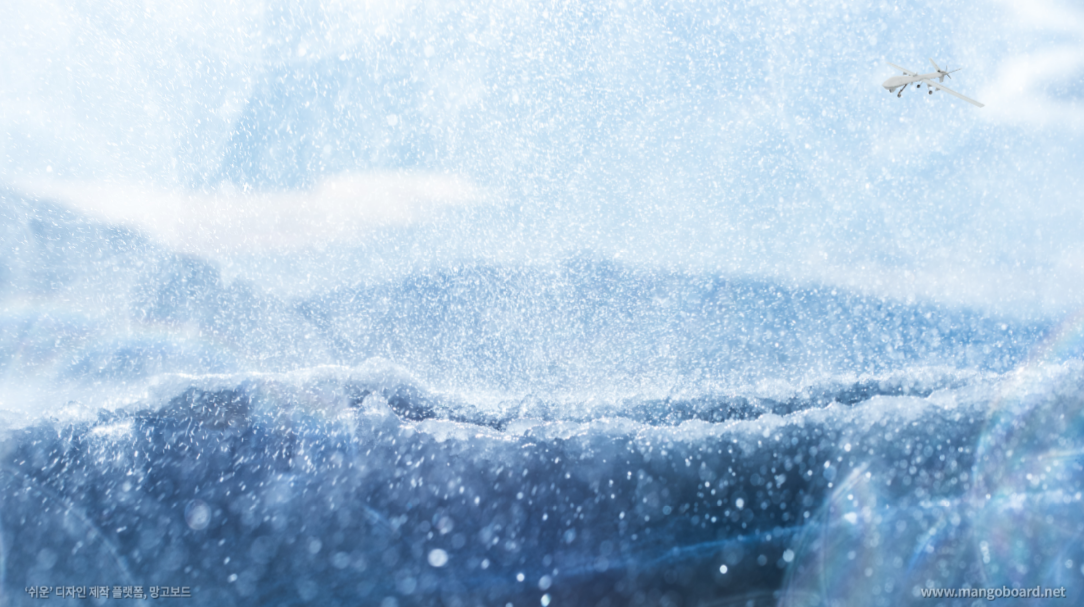military drone: (881, 58, 984, 108)
